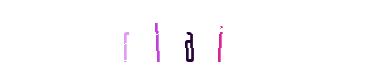A: (149, 0, 229, 80)
I: (151, 0, 231, 80)
L: (145, 0, 225, 80)
R: (97, 0, 177, 80)
